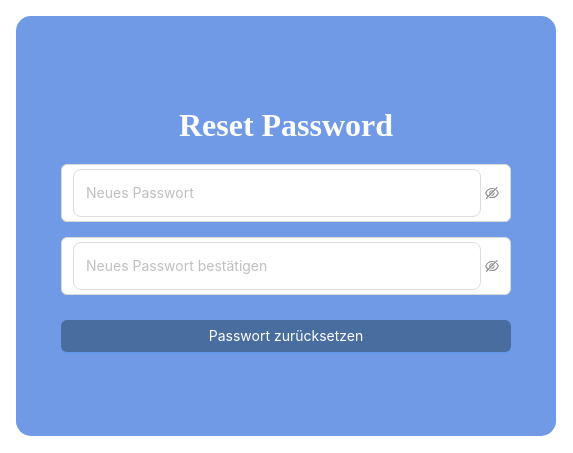
Test: ResetPassword › displays success message on successful password reset
The image size is (573, 453).
In the password field with placeholder "Neues Passwort": [277, 193] box [73,169,481,217], type "password123"
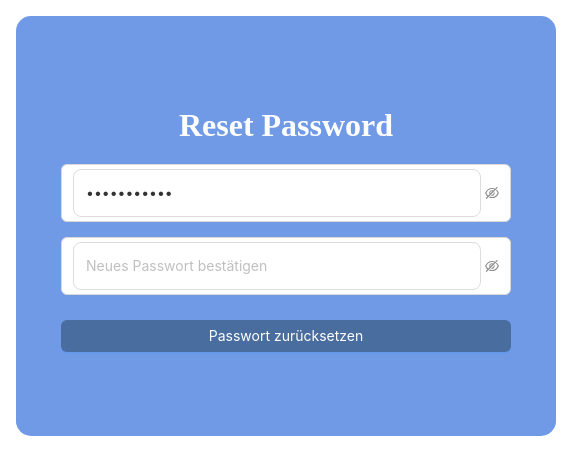
In the password field with placeholder "Neues Passwort bestätigen": [277, 266] box [73,242,481,290], type "password123"
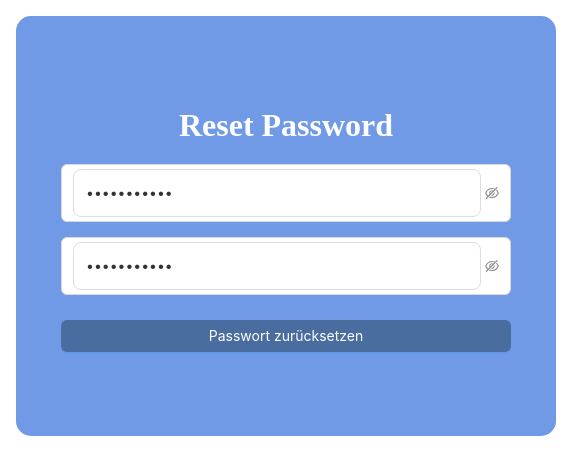
Click the button "Passwort zurücksetzen": [286, 336] box [61,320,511,352]
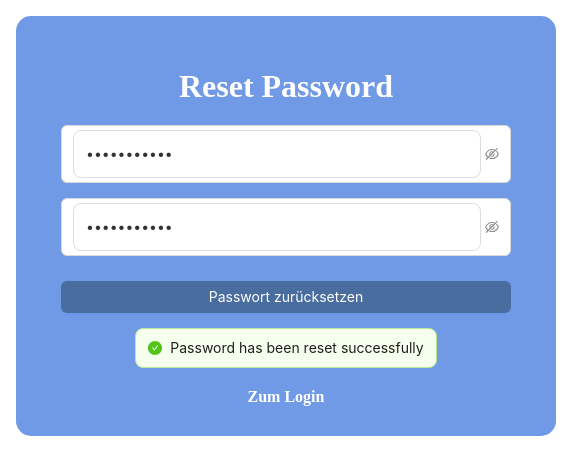
expect the text "Password has been reset successfully" is shown: met, box [170,337,424,359]
expect the link "Zum Login" is shown: met, box [248,388,324,405]
